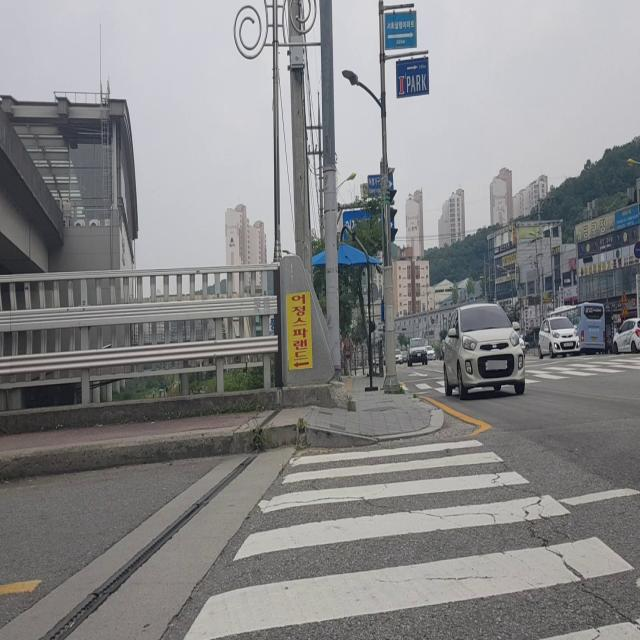횡단보도: (180, 434, 640, 640), (408, 355, 640, 395)
